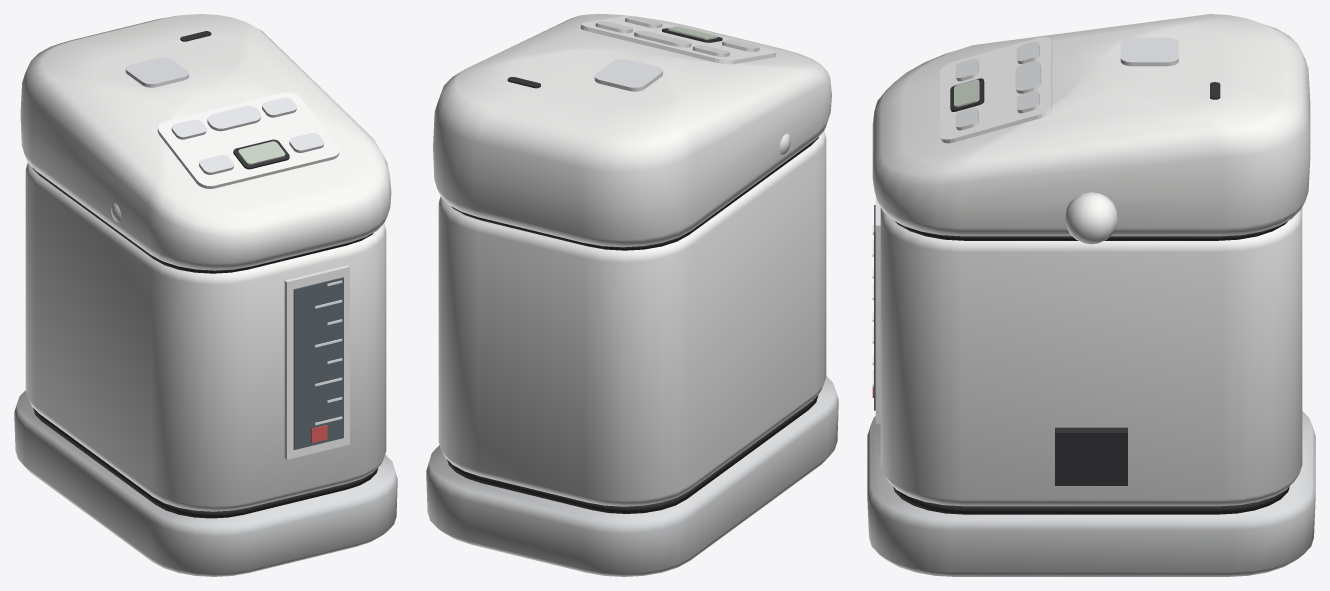
File: Electric kettle.glb
3 views of the same model, side by side, from view 1: azimuth 30°, elevation 25°; view 2: azimuth 150°, elevation 25°; view 3: azimuth 270°, elevation 25° (orthographic). The views are drawn at different scales.
Visible parts, largest first — view 1: Pot_Body, Pot_Lid, Pot_Base, Pot_WindowGlass, Pot_Panel, Pot_WindowFrame, Pot_Gap, Pot_PushButton, Pot_Seam, Pot_Btn_Dispense, Pot_LCD, Pot_Btn_Unlock (+3 smaller); view 2: Pot_Body, Pot_Lid, Pot_Base, Pot_Gap, Pot_Panel, Pot_PushButton, Pot_Seam; view 3: Pot_Body, Pot_Lid, Pot_Base, Pot_Panel, Pot_CordSocket, Pot_Gap, Pot_SpoutBump, Pot_PushButton, Pot_Seam, Pot_WindowFrame, Pot_Btn_Dispense, Pot_LCD.
Part boxes in pixels (left/top/right/bottom): Pot_Body: left=25, top=163, right=386, bottom=511; Pot_Lid: left=20, top=14, right=391, bottom=270; Pot_Base: left=14, top=390, right=397, bottom=576; Pot_WindowGlass: left=293, top=277, right=343, bottom=449; Pot_Panel: left=157, top=92, right=339, bottom=188; Pot_WindowFrame: left=284, top=265, right=349, bottom=459; Pot_Gap: left=33, top=408, right=377, bottom=518; Pot_PushButton: left=125, top=57, right=188, bottom=87; Pot_Seam: left=32, top=168, right=373, bottom=273; Pot_Btn_Dispense: left=207, top=106, right=260, bottom=131; Pot_LCD: left=238, top=141, right=285, bottom=164; Pot_Btn_Unlock: left=262, top=97, right=296, bottom=117; Pot_Body: left=438, top=131, right=826, bottom=506; Pot_Lid: left=433, top=14, right=831, bottom=247; Pot_Base: left=426, top=376, right=838, bottom=576; Pot_Gap: left=447, top=395, right=818, bottom=513; Pot_Panel: left=580, top=16, right=776, bottom=64; Pot_PushButton: left=594, top=59, right=662, bottom=91; Pot_Seam: left=451, top=137, right=818, bottom=250; Pot_Body: left=880, top=207, right=1302, bottom=506; Pot_Lid: left=872, top=14, right=1310, bottom=236; Pot_Base: left=867, top=411, right=1315, bottom=576; Pot_Panel: left=940, top=37, right=1052, bottom=143; Pot_CordSocket: left=1055, top=427, right=1127, bottom=485; Pot_Gap: left=893, top=486, right=1289, bottom=514; Pot_SpoutBump: left=1065, top=192, right=1117, bottom=244; Pot_PushButton: left=1120, top=37, right=1178, bottom=66; Pot_Seam: left=895, top=221, right=1287, bottom=240; Pot_WindowFrame: left=875, top=196, right=880, bottom=424; Pot_Btn_Dispense: left=1015, top=61, right=1041, bottom=93; Pot_LCD: left=954, top=79, right=979, bottom=107.
Size of the model in its own units: 0.231 by 0.3433 by 0.3085.
